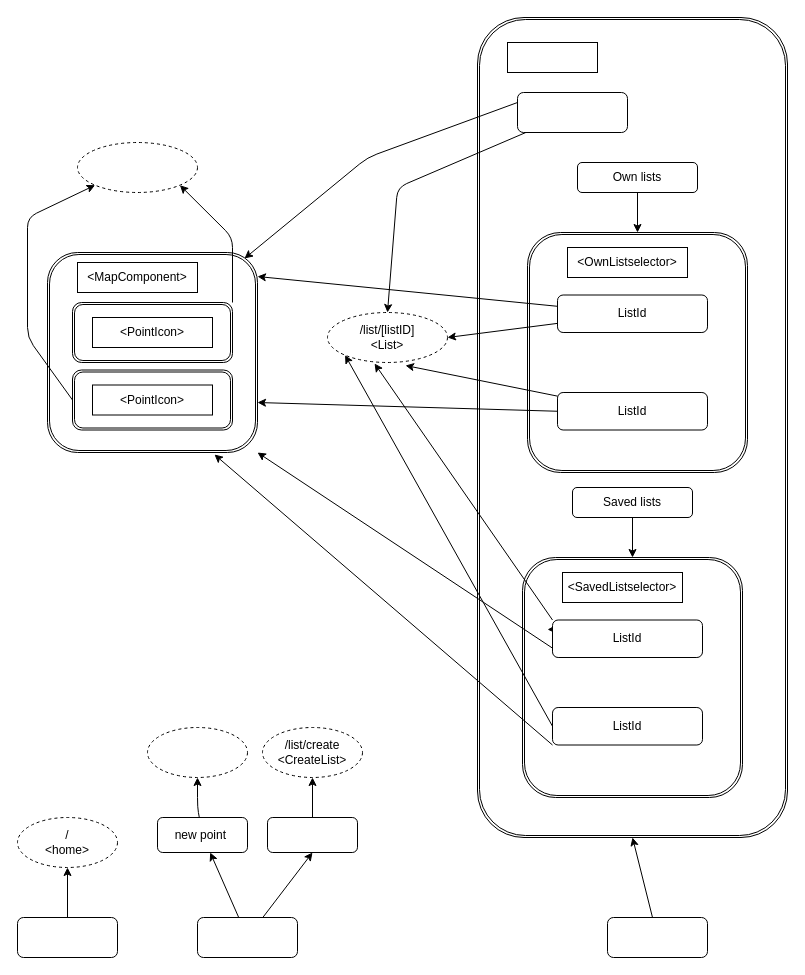
Some shapes in this 805 by 975 pixel diagram are drawn without their labels. The shapes that lost their labels are listed below. From the top down, each one's centre as x and y in pixels, then its label:
At point (552, 57): "<ListSelector>".
At point (572, 112): "my points".
At point (137, 167): "/point/[pointID] <Point>".
At point (197, 752): "/point/create <CreatePoint>".
At point (312, 834): "new list".
At point (67, 937): "refocus".
At point (247, 937): "create +".
At point (657, 937): "my lists".
